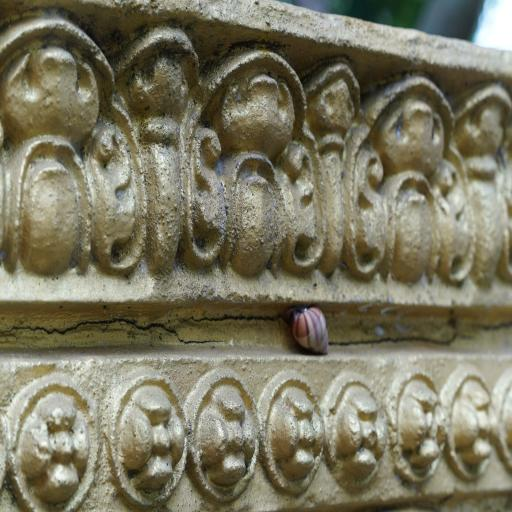hoa: (0, 356, 107, 512), (97, 364, 194, 510), (185, 355, 267, 500), (250, 355, 326, 501), (317, 366, 389, 490), (433, 361, 495, 486), (386, 357, 444, 484), (487, 370, 512, 492)
la: (0, 0, 169, 291), (158, 26, 336, 282), (334, 70, 490, 300)
